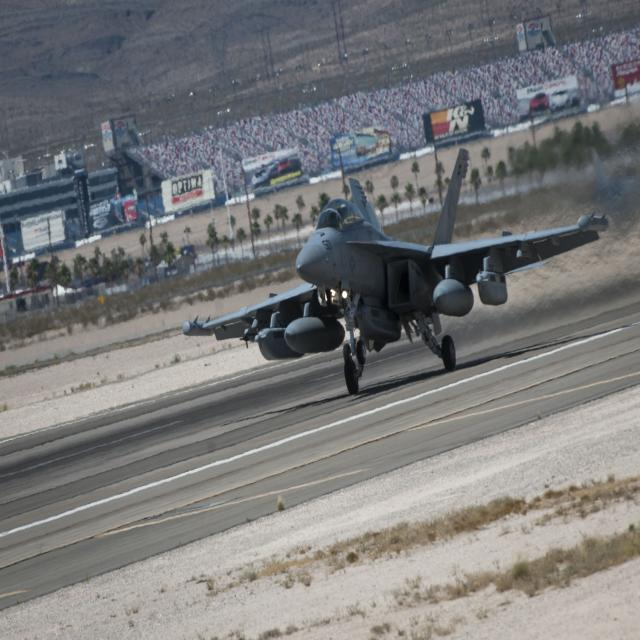MIL_Plane: (182, 147, 609, 394)
